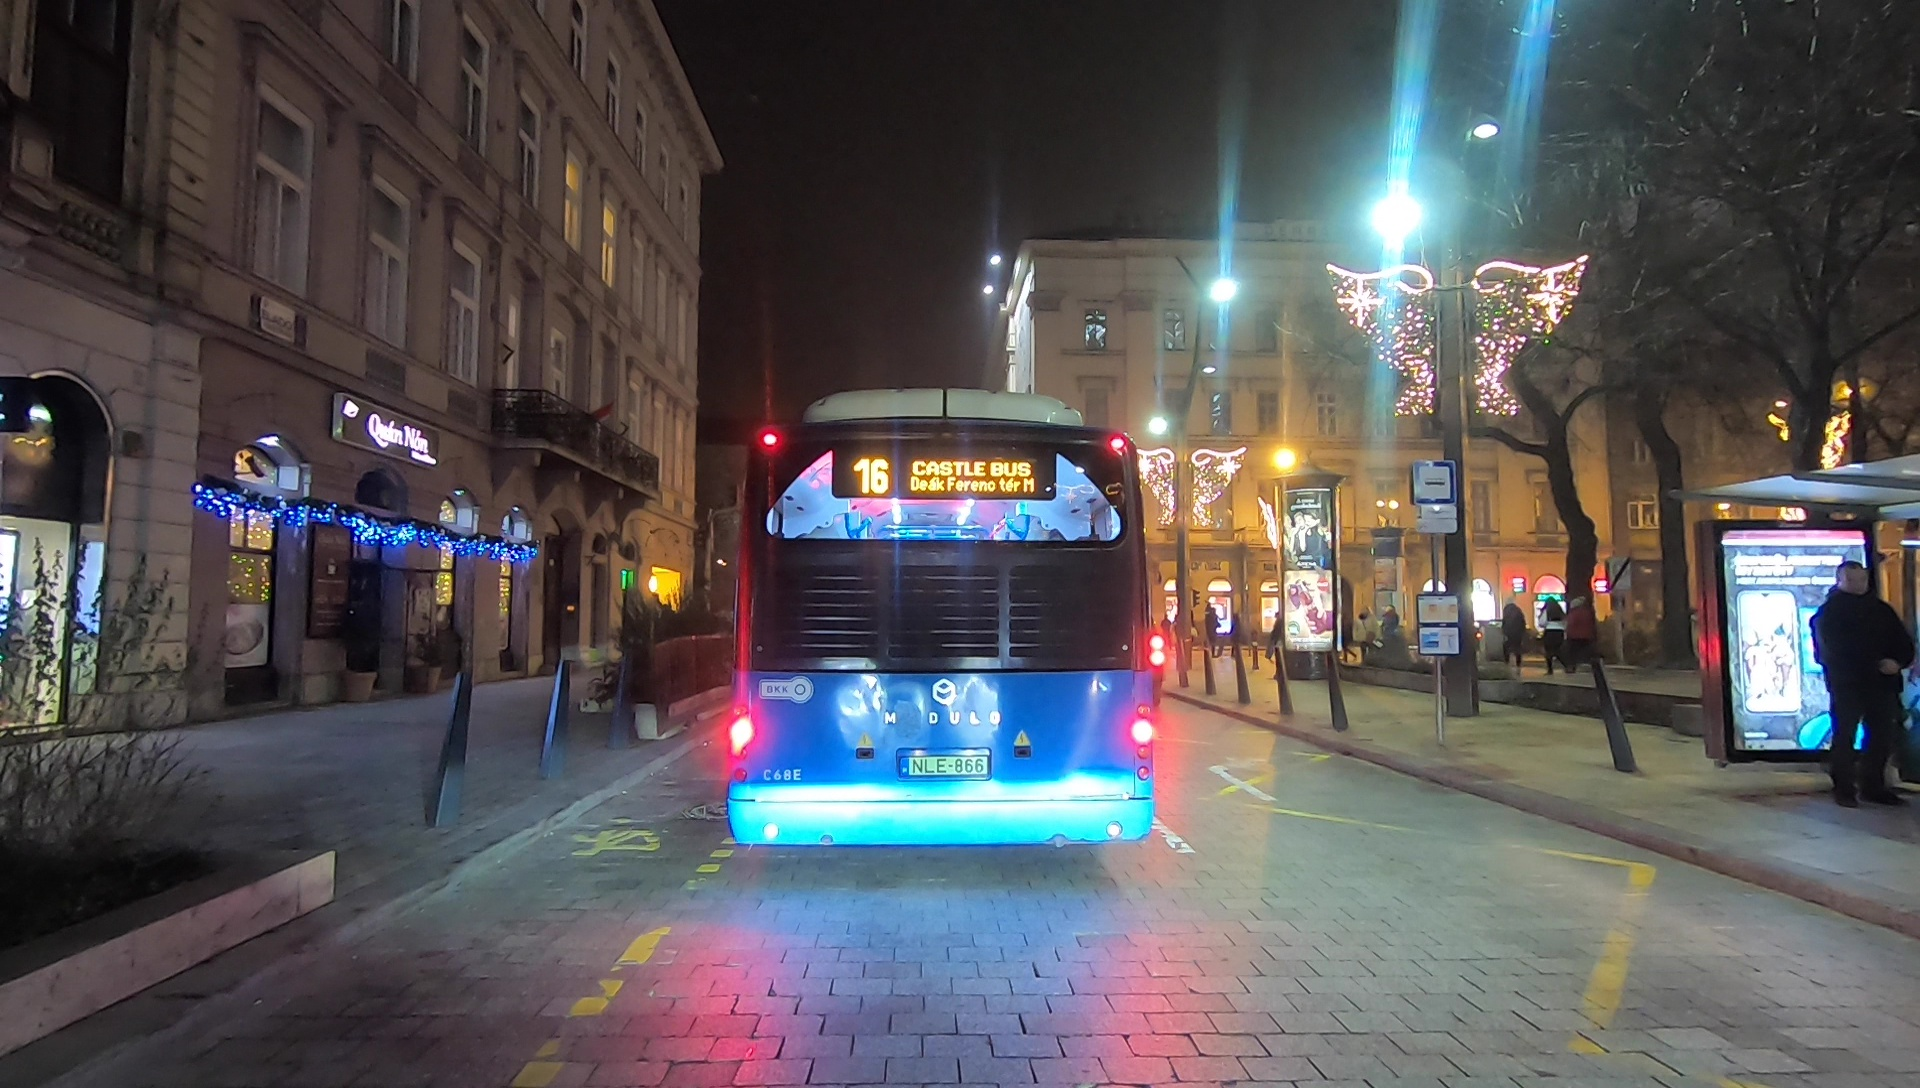person: (1819, 563, 1906, 804), (1567, 591, 1595, 675), (1540, 596, 1568, 672), (1501, 597, 1524, 674), (1382, 606, 1405, 662), (1355, 605, 1375, 666)
